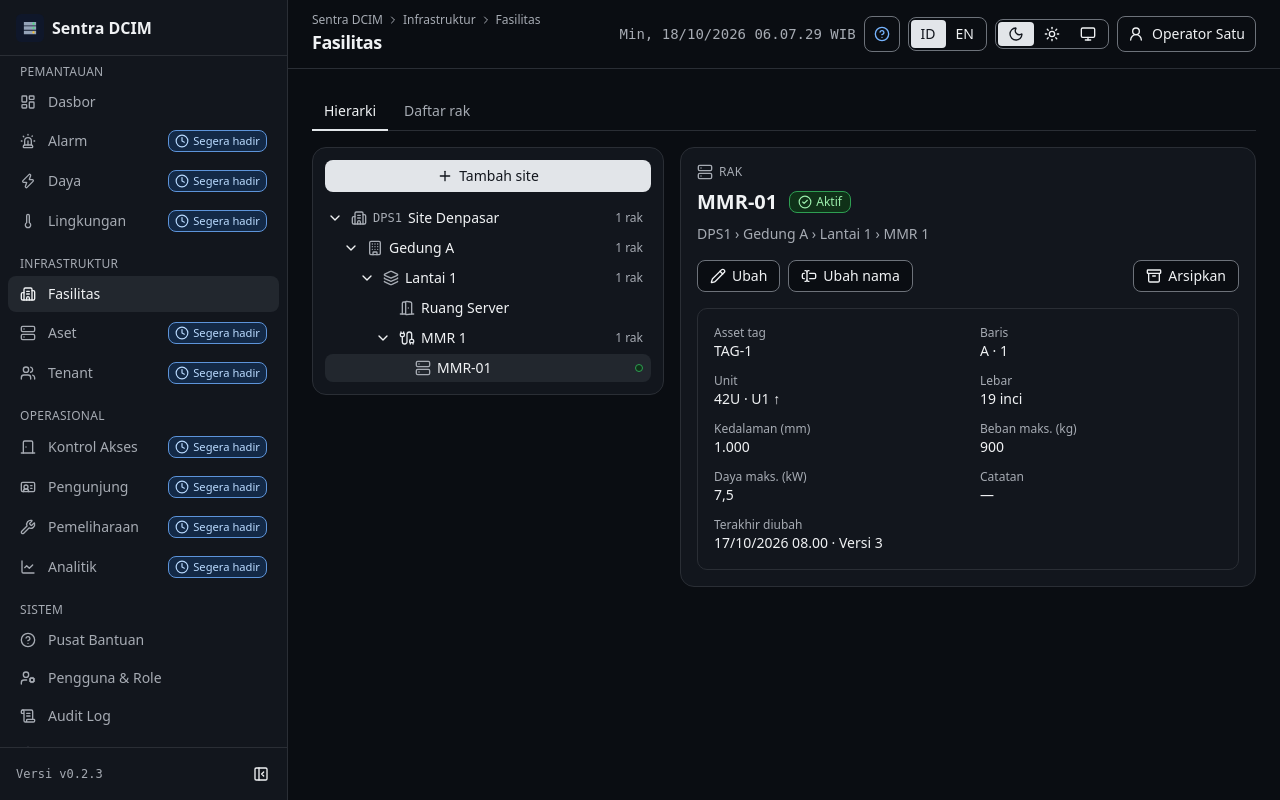
Test: facility module (v0.4.1) › renames a rack with If-Match and shows a reload notice on 412
Click the button with test id "facility-rename" at x=851, y=276, box [788,260,913,292]
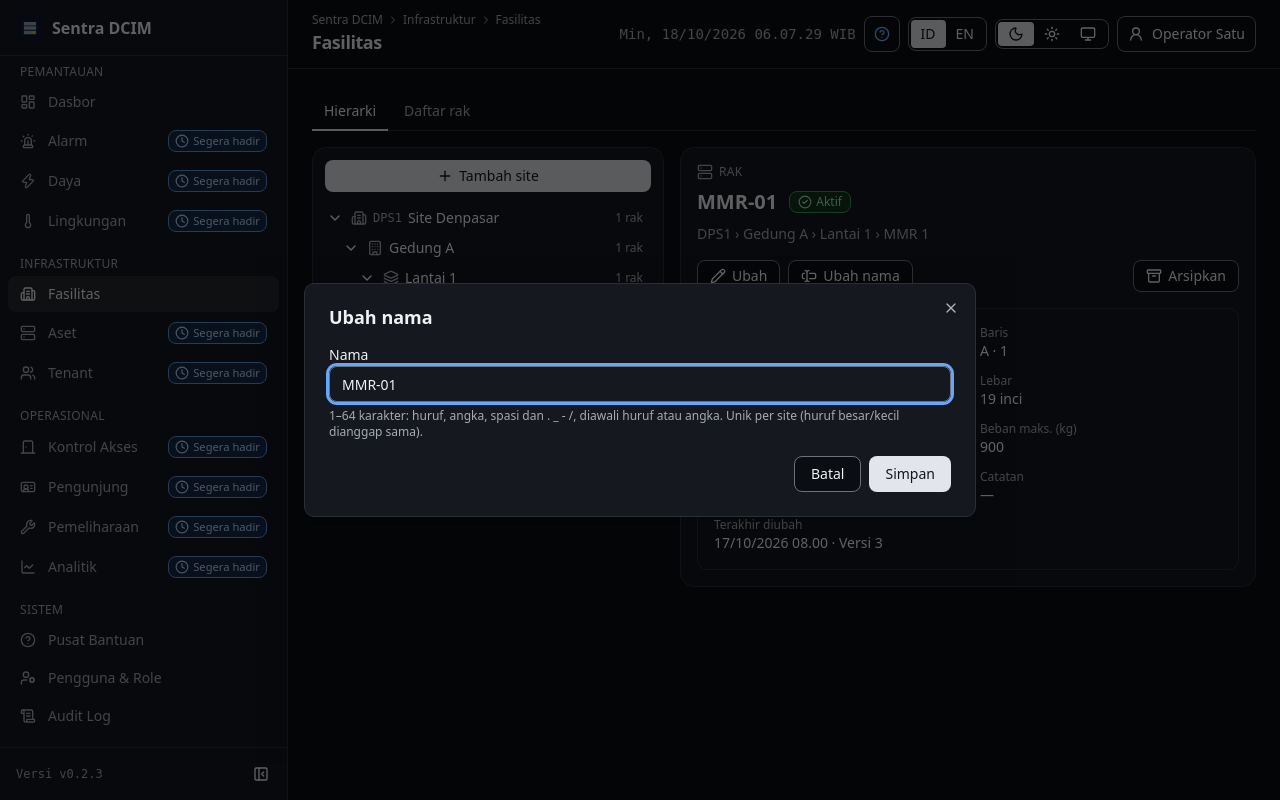
Replace the text in the field labelled "Nama" with "MMR-02" at x=640, y=384, box [329,366,951,402]
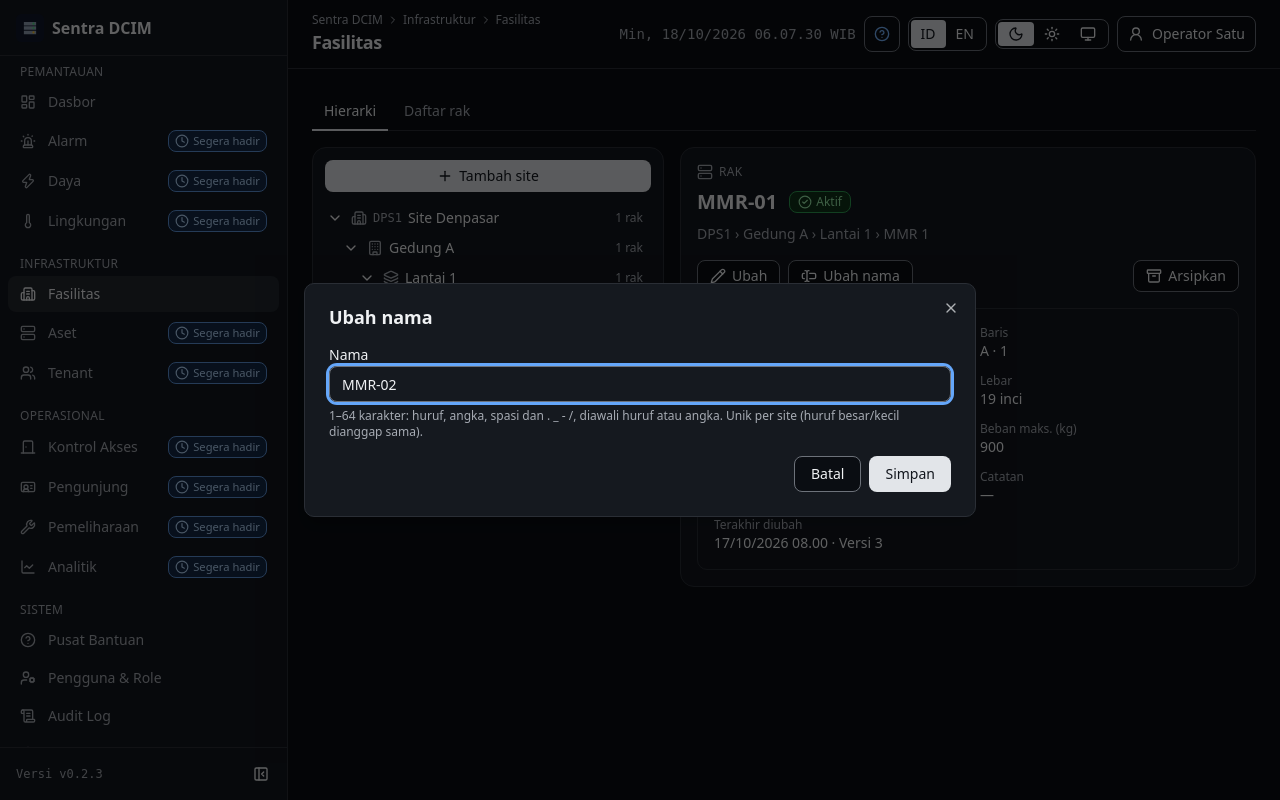
Click the button with test id "facility-save" at x=910, y=474, box [870,456,951,492]
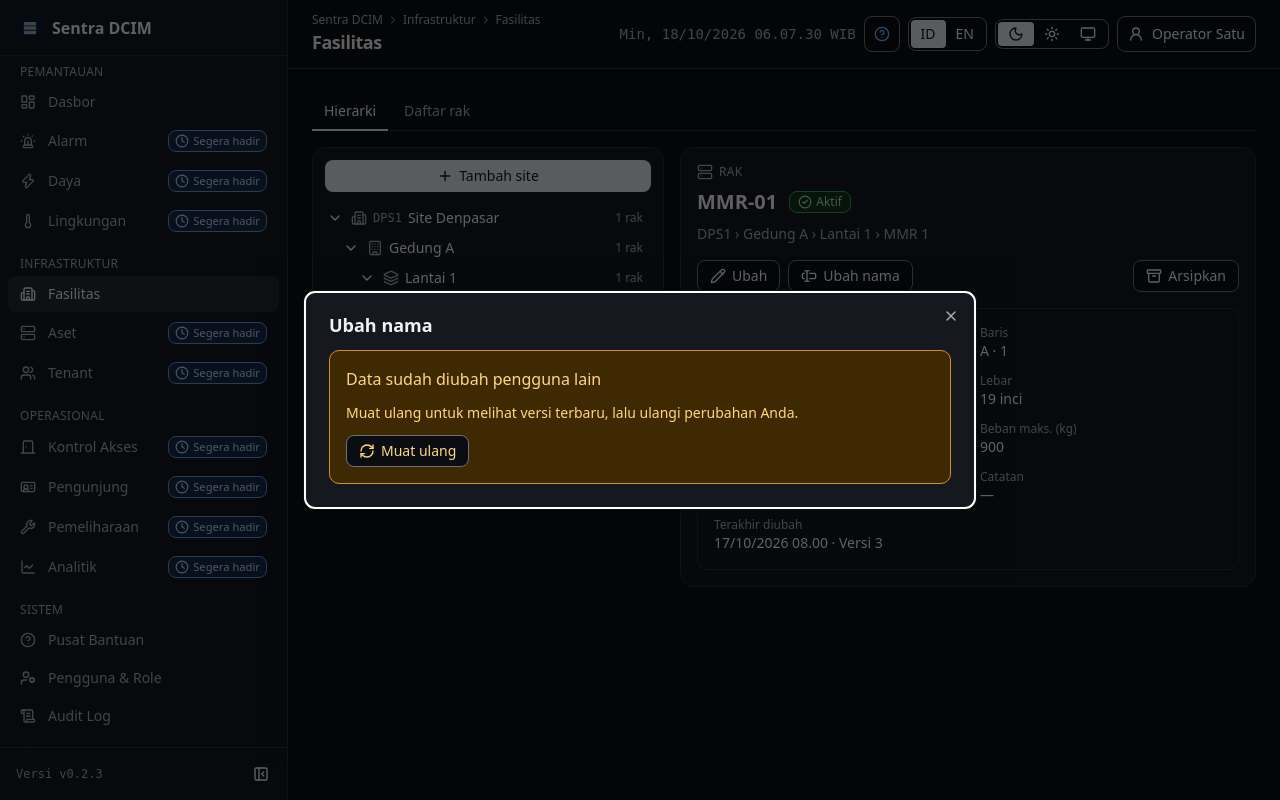
Expected: the message with test id "facility-conflict" shows "Data sudah diubah pengguna lain", [346,368,601,390]
